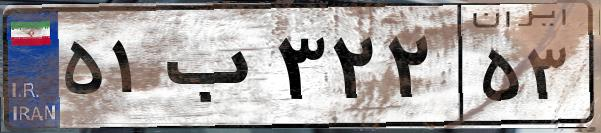1: (110, 28, 158, 98)
2: (385, 28, 445, 110), (330, 28, 385, 110)
3: (270, 28, 330, 110), (525, 38, 570, 115)
5: (57, 26, 110, 100), (475, 38, 525, 113)
ب: (158, 20, 270, 120)
